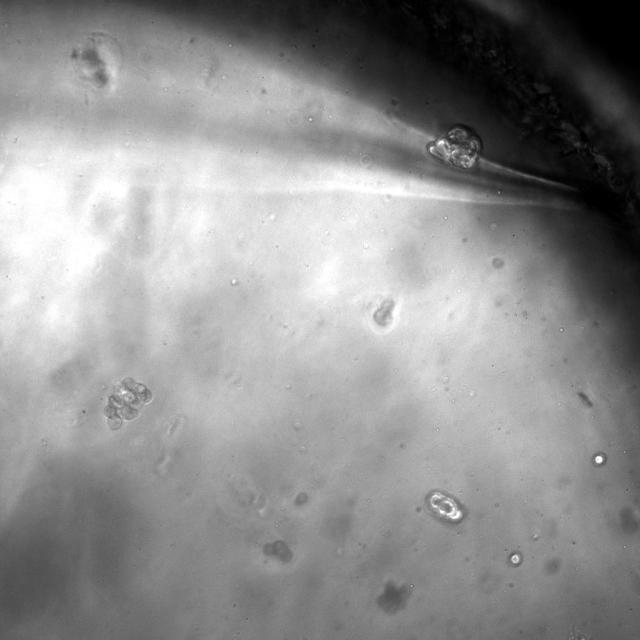organoid: (427, 125, 482, 170), (103, 378, 152, 428), (71, 35, 114, 88), (425, 490, 463, 524), (376, 581, 410, 614), (262, 540, 292, 562), (372, 299, 394, 328), (591, 452, 607, 467), (508, 551, 522, 566)
